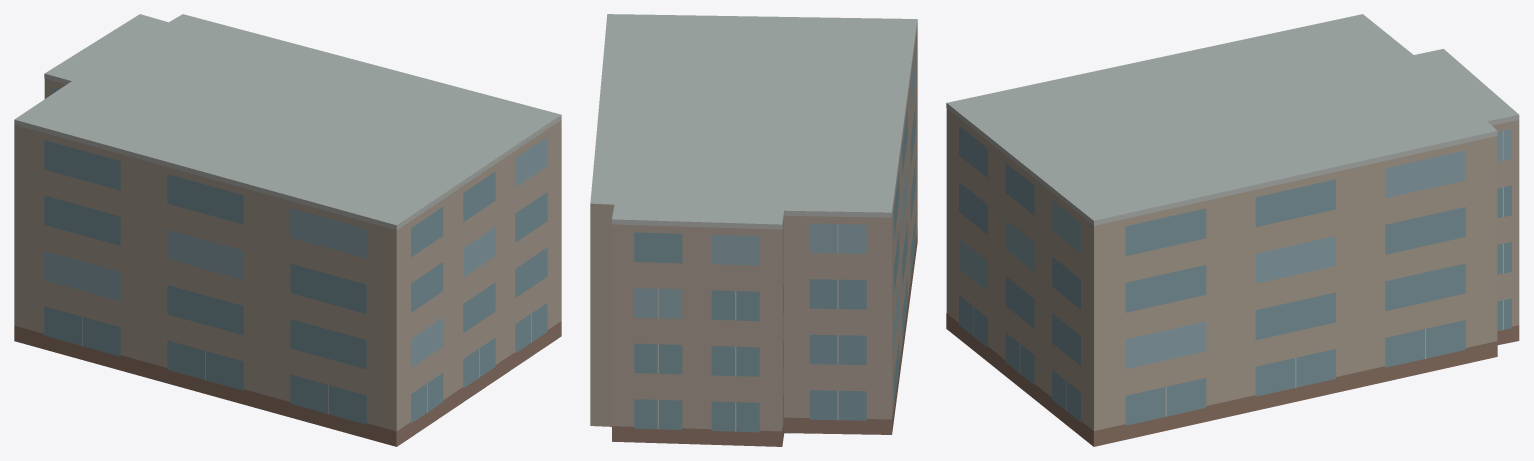
The model's file is survey-upis-32772003.glb.
3 renders of one model, left to right at view 1: azimuth 30°, elevation 25°; view 2: azimuth 150°, elevation 25°; view 3: azimuth 270°, elevation 25°, orthographic. The views are drawn at different scales.
Parts seen in each view (by area): view 1: survey-upis-32772003.tmp; view 2: survey-upis-32772003.tmp; view 3: survey-upis-32772003.tmp.
Part boxes in pixels (x1,y1,x2,y2): survey-upis-32772003.tmp: (14, 14, 561, 446); survey-upis-32772003.tmp: (590, 14, 917, 446); survey-upis-32772003.tmp: (946, 14, 1519, 446).
Size of the model in its own units: 21.21 by 10.8 by 24.82.
